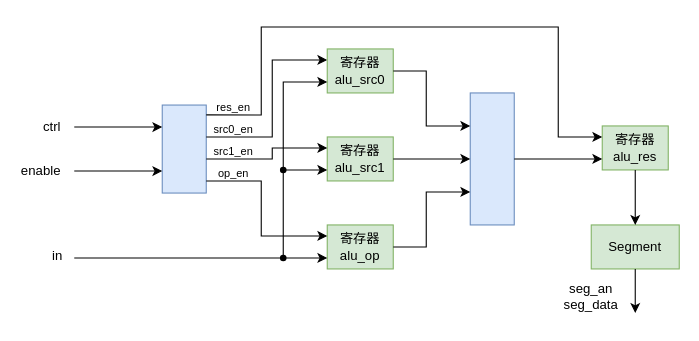
Image size: 699x341. Some labels were removed from this diagram. Each missing label, with the centre of its shape:
"ALU 32 位" belongs at point (491, 158).
"译码" belongs at point (183, 148).
